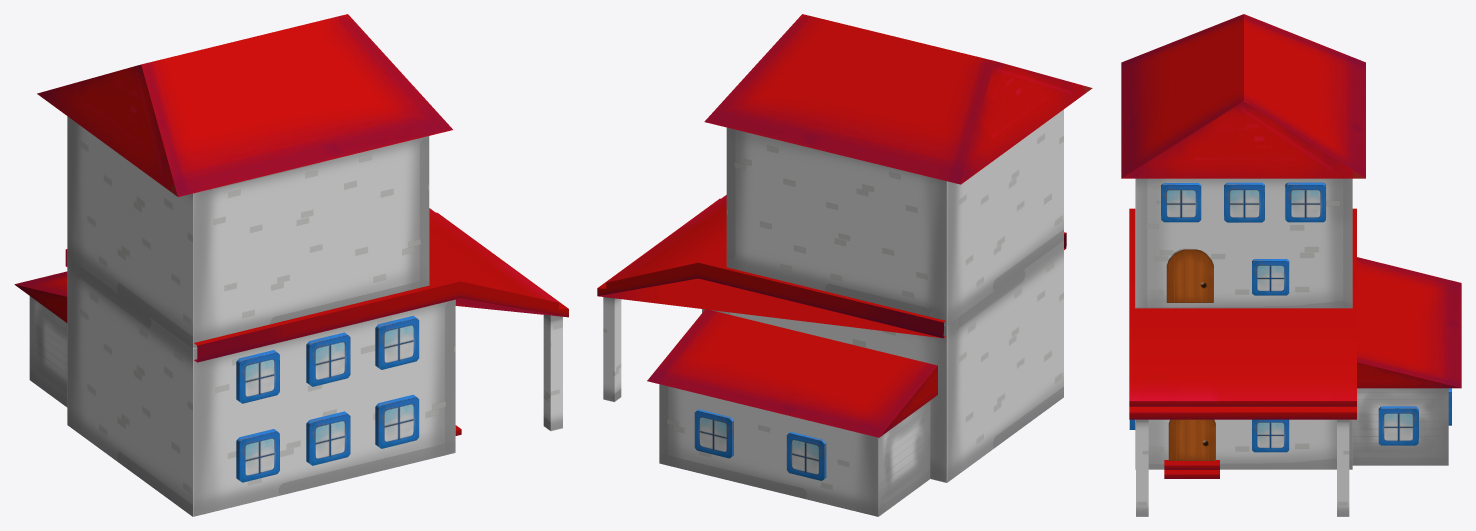
File: House_5.fbx
The picture shows the model from 3 angles, left to right: view 1: azimuth 30°, elevation 25°; view 2: azimuth 150°, elevation 25°; view 3: azimuth 270°, elevation 25°; orthographic projection. The views are drawn at different scales.
Visible parts, largest first — view 1: House_5; view 2: House_5; view 3: House_5.
Part boxes in pixels (x1=…): House_5: x1=14, y1=14, x2=568, y2=516; House_5: x1=597, y1=14, x2=1092, y2=516; House_5: x1=1121, y1=14, x2=1461, y2=516.
Bounding box in the file's own units: 12.32 × 12.09 × 10.61.
